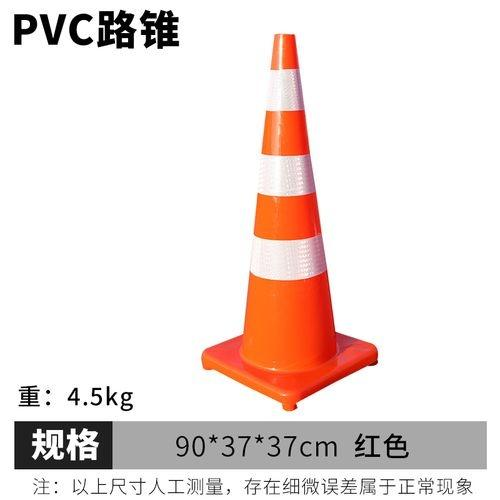cone_barrel: (218, 36, 362, 399)
